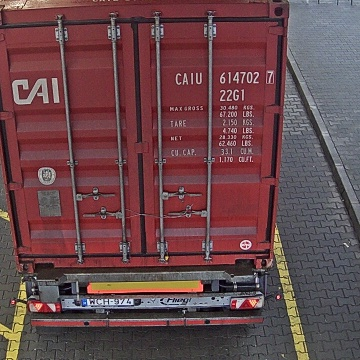serial_id: (175, 71, 273, 85)
